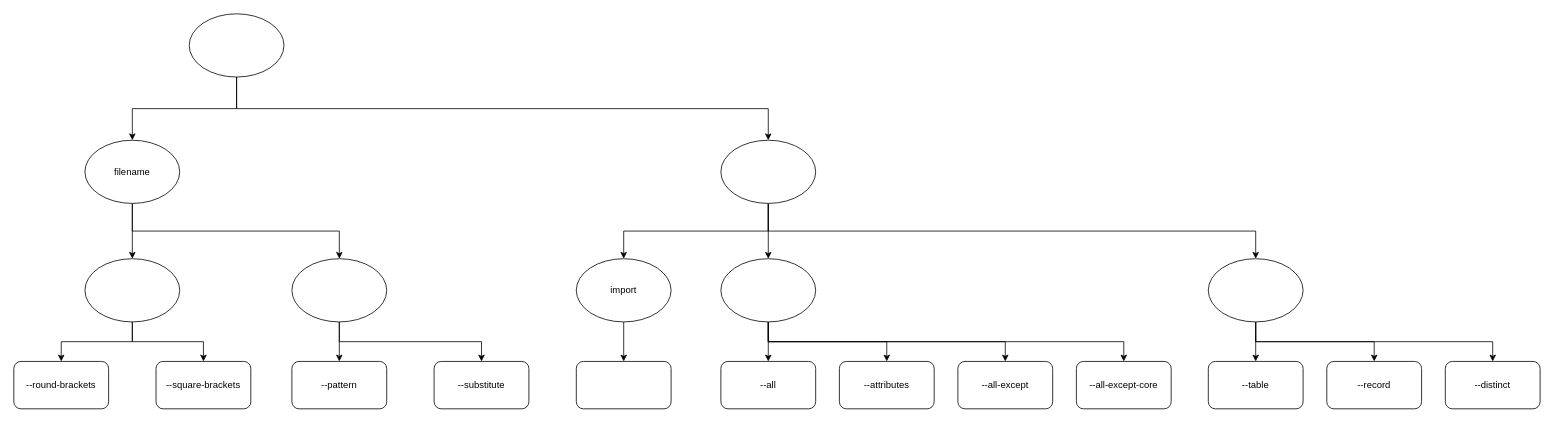
Some shapes in this 1554 by 423 pixel diagram are drawn without their labels. Here are the shapes that lost their labels. From the top down, the centre of each, then its label:
At pixel 236 45: "MediaParser".
At pixel 768 171: "metadata".
At pixel 132 290: "normalize".
At pixel 339 290: "replace".
At pixel 768 290: "delete".
At pixel 1255 290: "view".
At pixel 623 385: "--from-file-and-directory".
